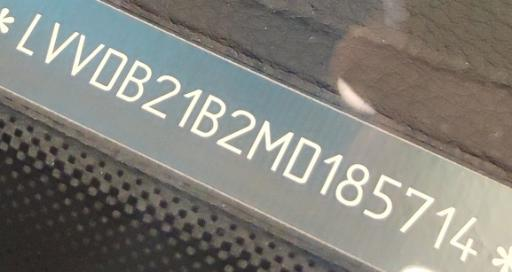letter: (246, 117, 294, 171), (282, 135, 322, 185), (139, 73, 181, 120), (214, 108, 256, 154), (362, 172, 402, 219), (88, 45, 128, 92), (398, 185, 436, 232), (188, 92, 226, 138), (42, 20, 80, 65), (114, 58, 152, 101), (448, 214, 482, 262), (334, 160, 370, 205), (68, 34, 104, 77), (14, 11, 42, 58), (431, 204, 455, 248), (177, 87, 203, 127), (320, 152, 342, 194)
